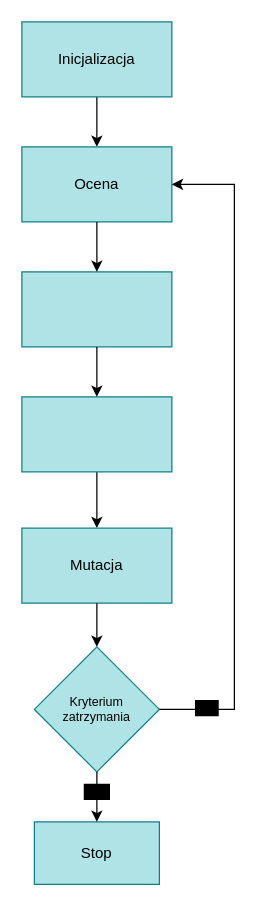
Some shapes in this 266 by 906 pixel diagram are drawn without their labels. Here are the shapes that lost their labels. From the top down, the centre of each, then its label:
At (x=96, y=309): "Selekcja".
At (x=96, y=434): "Krzyżowanie".
